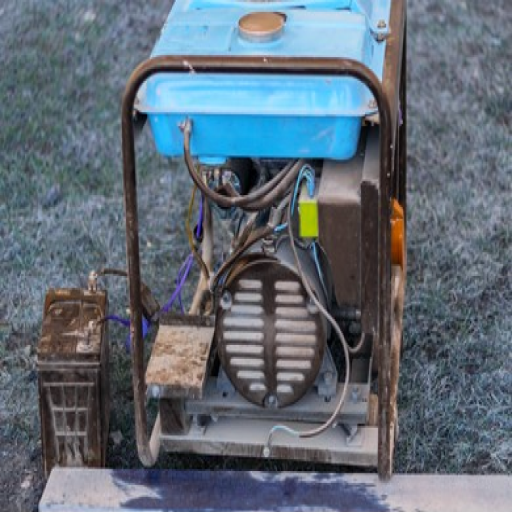portable_generator: (119, 1, 411, 476)
